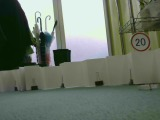speed_20: (129, 30, 152, 52)
